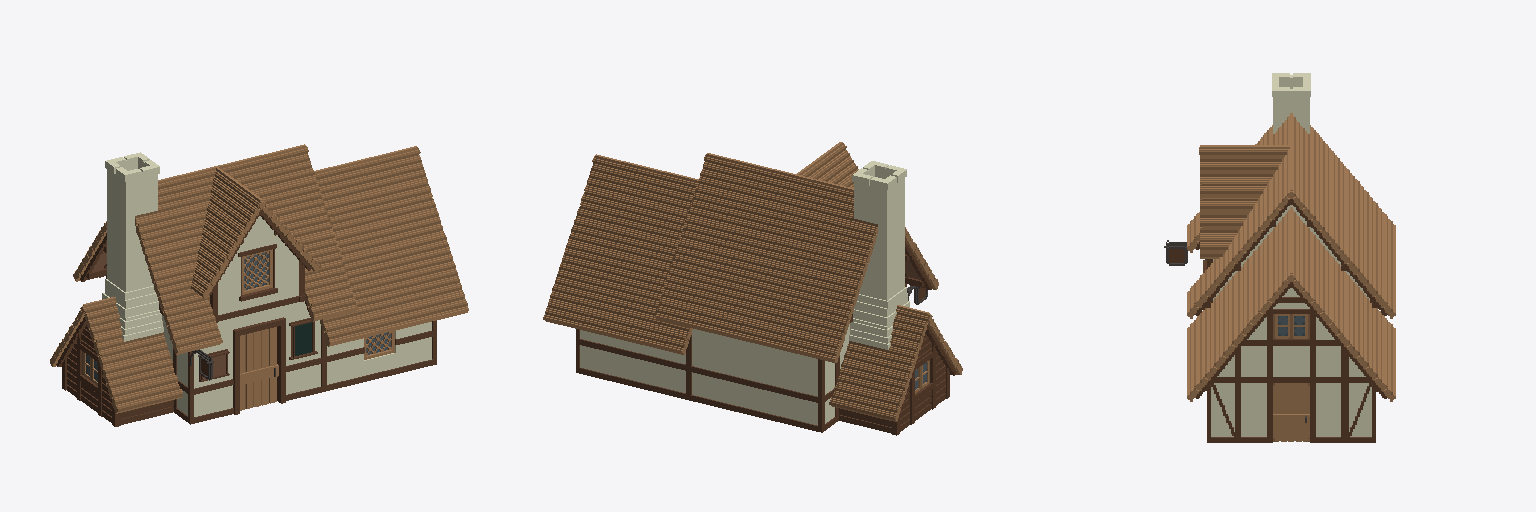
The picture shows the model from 3 angles: view 1: azimuth 30°, elevation 25°; view 2: azimuth 150°, elevation 25°; view 3: azimuth 270°, elevation 25°; orthographic projection.
Parts seen in each view (by area): view 1: object 1; view 2: object 1; view 3: object 1.
Boxes of the visible parts, box(x1,y1,x2,y2) form: object 1: box(50, 144, 468, 426); object 1: box(543, 142, 962, 435); object 1: box(1164, 73, 1395, 442).
Bounding box in the file's own units: 25.6 × 17 × 15.3.
Materials: 1 (1 with a texture image).